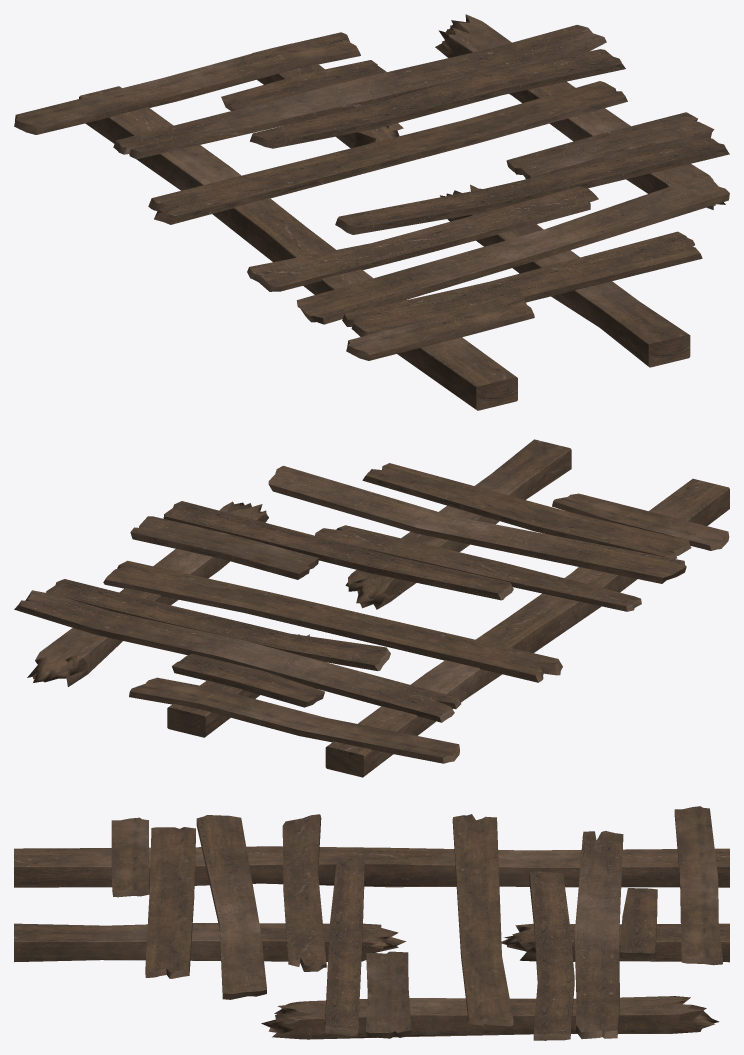
Rendered from SM_Wooden_Floor_Ruined_08.fbx.
3 renders of one model, top to bottom at view 1: azimuth 30°, elevation 25°; view 2: azimuth 150°, elevation 25°; view 3: azimuth 270°, elevation 25°, orthographic. The views are drawn at different scales.
Visible parts, largest first — view 1: SM_Wooden_Floor_Ruined_08_LOD0; view 2: SM_Wooden_Floor_Ruined_08_LOD0; view 3: SM_Wooden_Floor_Ruined_08_LOD0.
Part boxes in pixels (x1,y1,x2,y2): SM_Wooden_Floor_Ruined_08_LOD0: [14, 14, 729, 410]; SM_Wooden_Floor_Ruined_08_LOD0: [14, 439, 729, 777]; SM_Wooden_Floor_Ruined_08_LOD0: [14, 806, 729, 1040].
Size of what is drawn, in the model's own units: 612 by 51.1 by 800.
